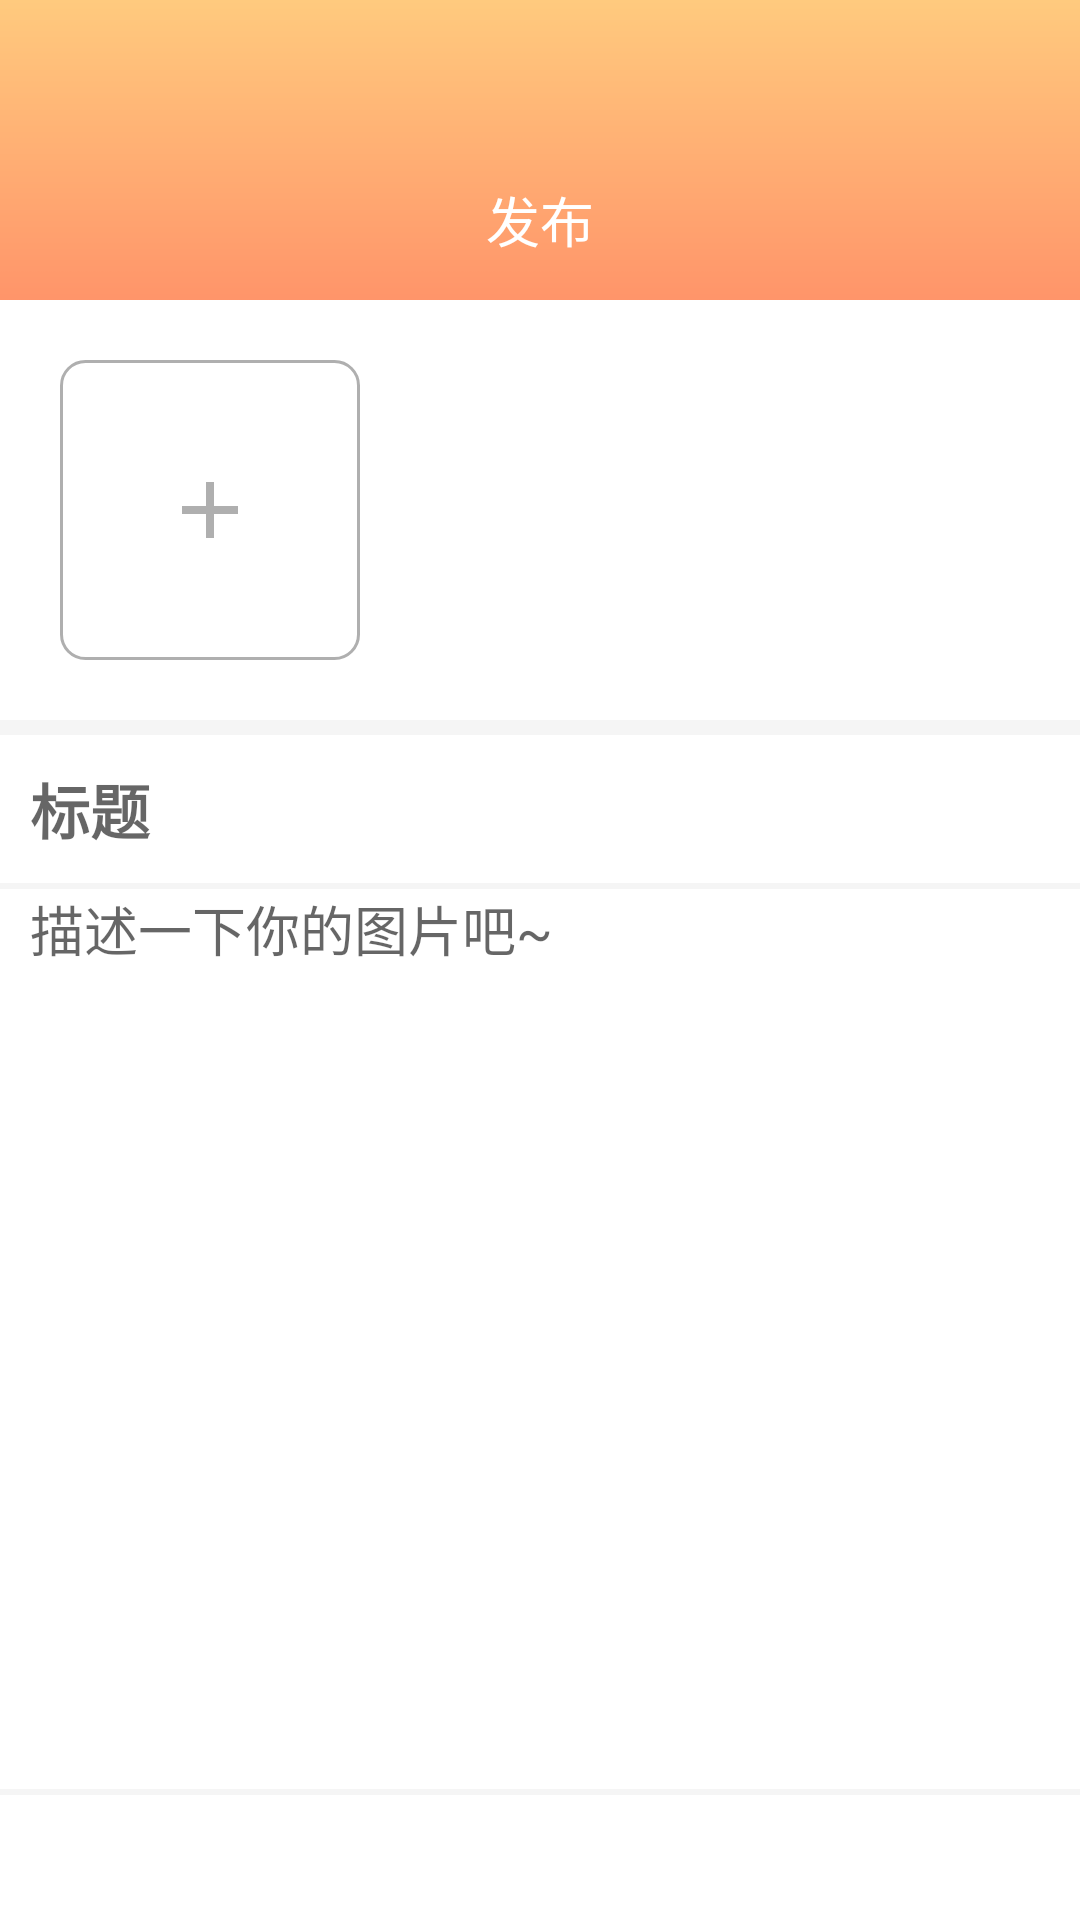

Icon click points for this 1080 x 1920 phone screenshot, format point (x, y):
add: point (210, 510)
